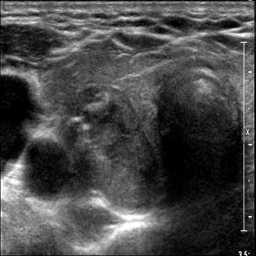mass: (67, 87, 153, 213)
